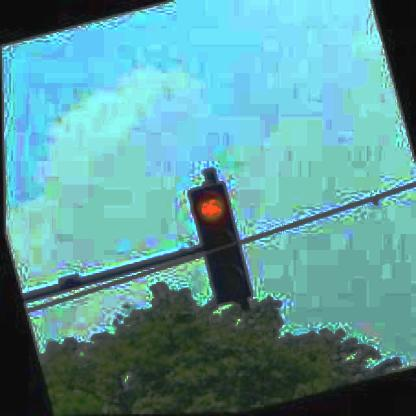Traffic Light -Red-: (185, 183, 255, 306)
